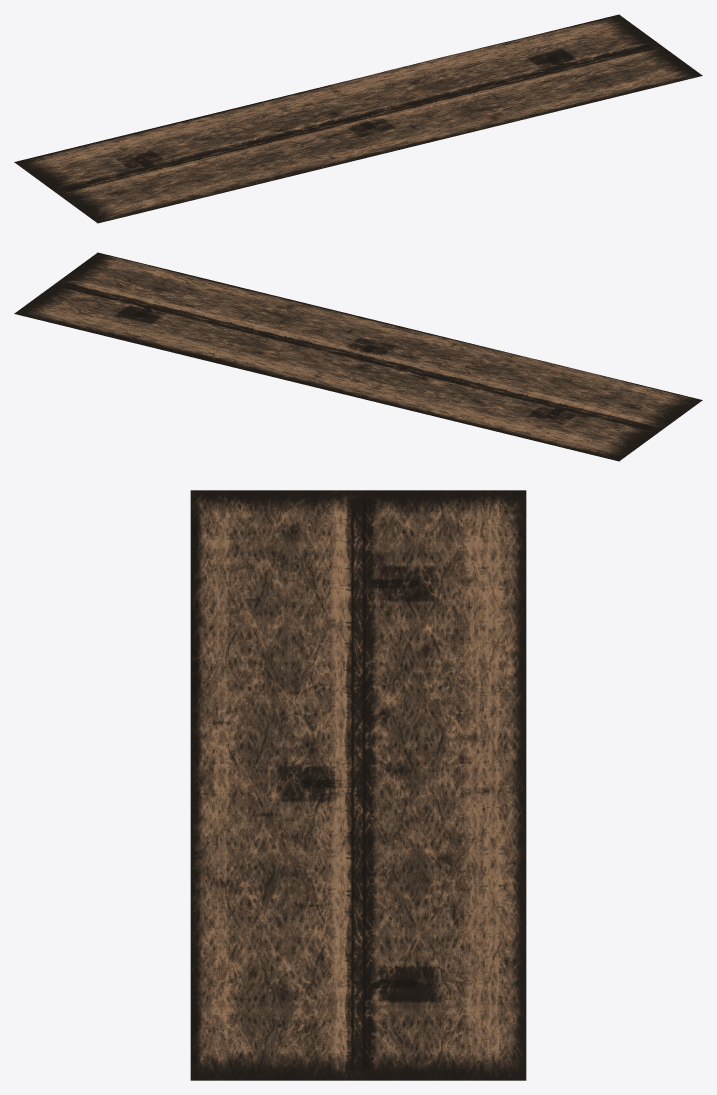
File: long-road-terrain.glb
3 views of the same model, one above another, from view 1: azimuth 30°, elevation 25°; view 2: azimuth 150°, elevation 25°; view 3: azimuth 270°, elevation 25° (orthographic). The views are drawn at different scales.
Visible parts, largest first — view 1: LongRoadTerrain; view 2: LongRoadTerrain; view 3: LongRoadTerrain.
Part boxes in pixels (<box>): LongRoadTerrain: <box>14,14,702,223</box>; LongRoadTerrain: <box>14,252,702,461</box>; LongRoadTerrain: <box>190,490,526,1080</box>.
Size of the model in its own units: 400 by 2.02 by 96.
Materials: 1 (1 with a texture image).
